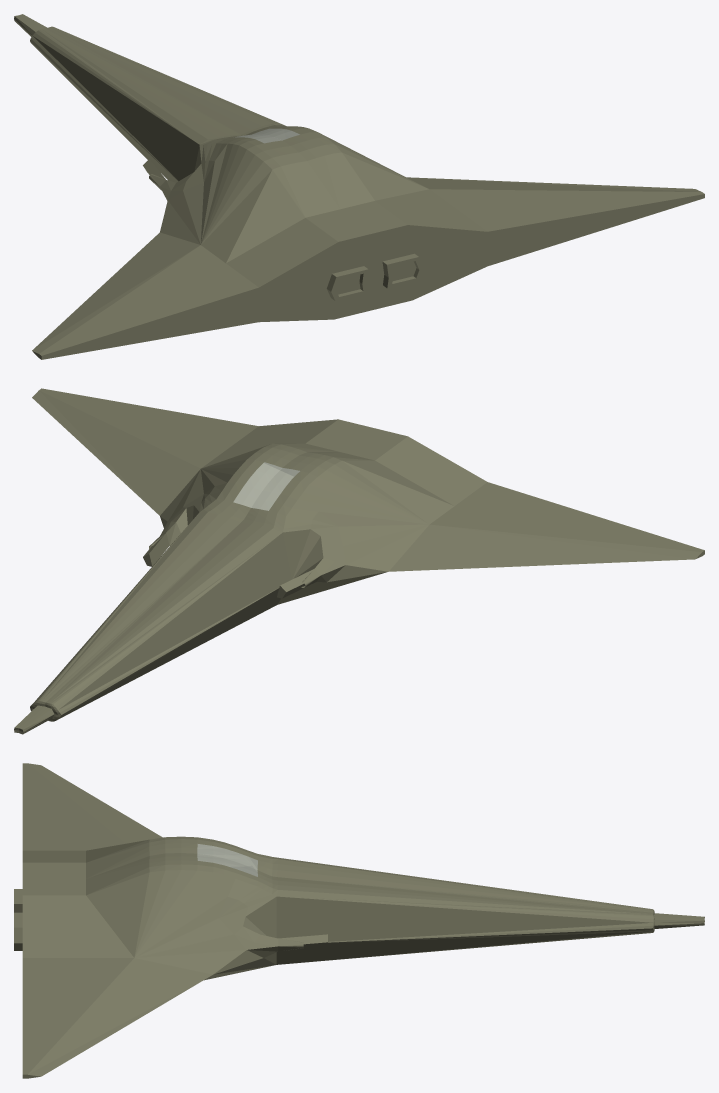
The model's file is player_ship002.obj.
3 renders of one model, top to bottom at view 1: azimuth 30°, elevation 25°; view 2: azimuth 150°, elevation 25°; view 3: azimuth 270°, elevation 25°, orthographic. The views are drawn at different scales.
Parts seen in each view (by area): view 1: Cube_ship; view 2: Cube_ship; view 3: Cube_ship.
Boxes of the visible parts, x1=… form: Cube_ship: x1=14, y1=14, x2=704, y2=359; Cube_ship: x1=14, y1=388, x2=704, y2=734; Cube_ship: x1=14, y1=763, x2=704, y2=1078.
Size of the model in its own units: 58 by 9.86 by 54.39.
